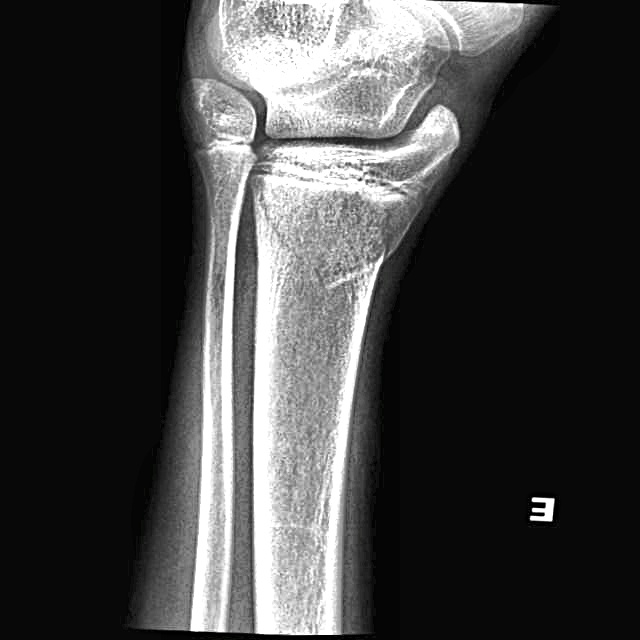Oblique Displaced: (256, 175, 424, 319)
